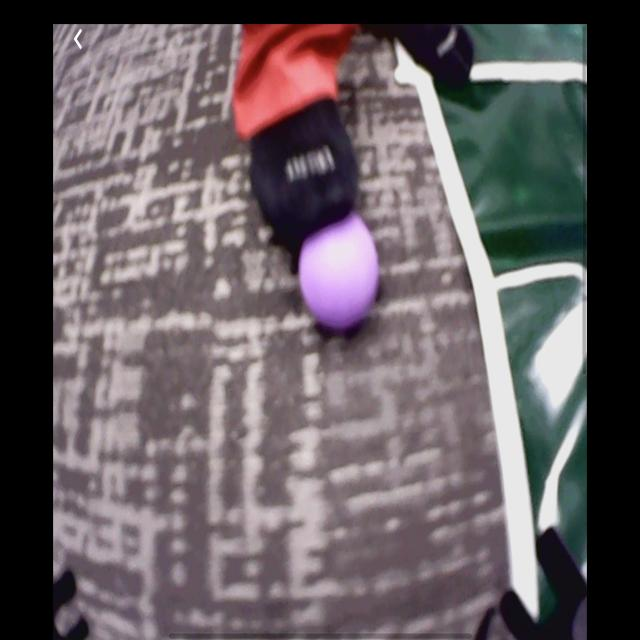ball: (301, 217, 379, 326)
